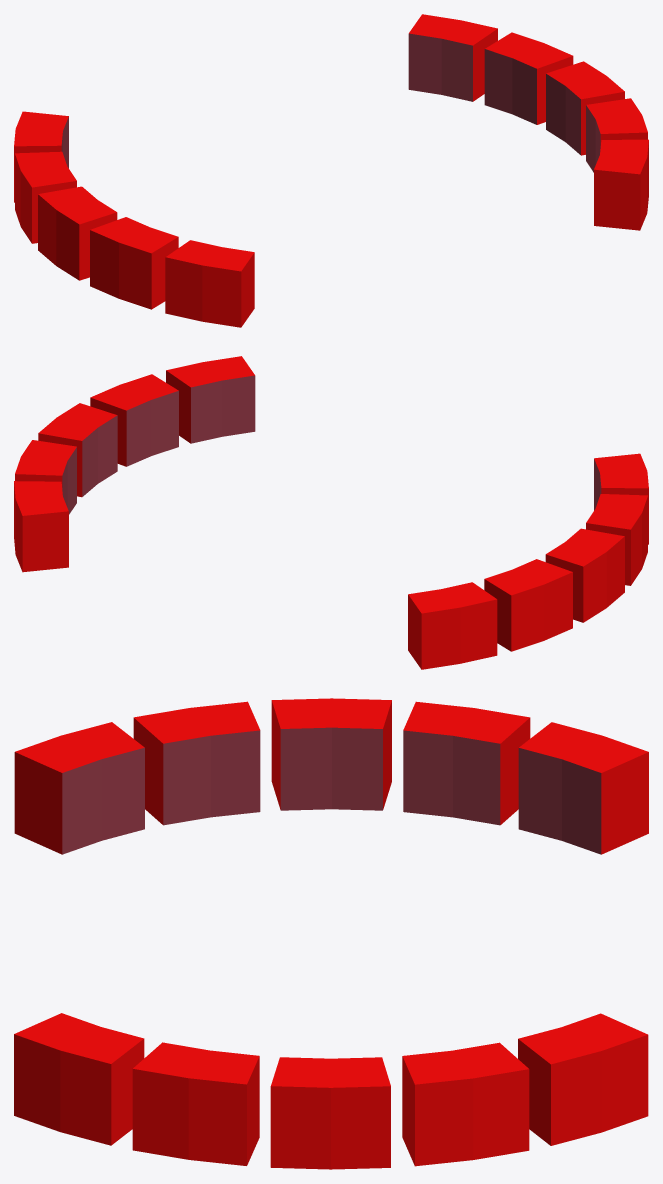
File: Obstacle2.fbx
The picture shows the model from 3 angles, top to bottom: view 1: azimuth 30°, elevation 25°; view 2: azimuth 150°, elevation 25°; view 3: azimuth 270°, elevation 25°; orthographic projection. The views are drawn at different scales.
Visible parts, largest first — view 1: Obstacle2; view 2: Obstacle2; view 3: Obstacle2.
Part boxes in pixels (x1=…): Obstacle2: x1=14, y1=14, x2=648, y2=327; Obstacle2: x1=14, y1=356, x2=648, y2=669; Obstacle2: x1=14, y1=698, x2=648, y2=1169.
Size of the model in its own units: 200 by 19.55 by 138.
